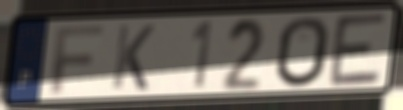1: (189, 18, 215, 92)
2: (218, 16, 269, 92)
E: (326, 10, 390, 90)
F: (49, 23, 107, 96)
K: (108, 23, 157, 93)
O: (275, 14, 332, 89)
